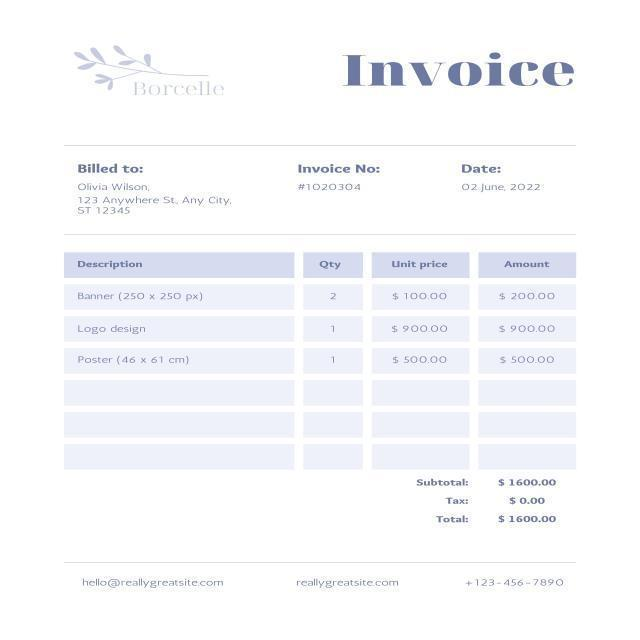ROI: (69, 249, 584, 408), (67, 149, 239, 237), (341, 46, 592, 104), (61, 36, 254, 105), (411, 474, 574, 538), (287, 159, 404, 206), (447, 152, 554, 203), (287, 564, 409, 607), (81, 572, 236, 597), (459, 571, 590, 600)
